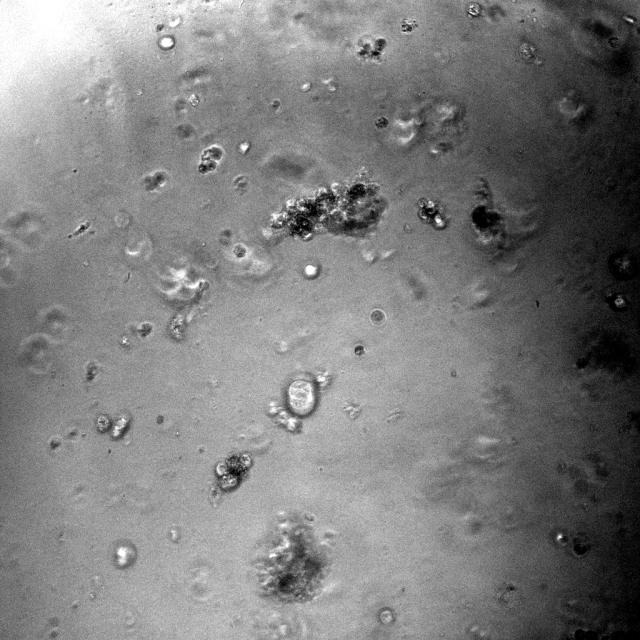organoid: (254, 512, 331, 603), (270, 179, 387, 236), (268, 371, 333, 431), (214, 451, 252, 493), (471, 205, 501, 242), (92, 412, 131, 440), (418, 198, 447, 229), (357, 36, 386, 62), (198, 145, 223, 173), (142, 170, 168, 192), (571, 535, 591, 557), (519, 41, 536, 63), (369, 308, 386, 325), (466, 2, 483, 19), (158, 34, 175, 50), (136, 322, 152, 337), (401, 19, 417, 32), (233, 244, 246, 257), (376, 116, 388, 128), (354, 344, 365, 357)
